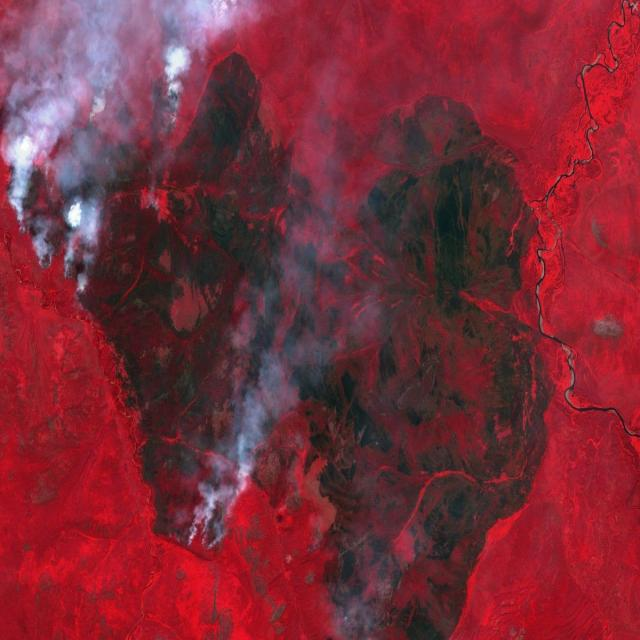fire: (0, 61, 184, 304), (181, 456, 254, 556)
